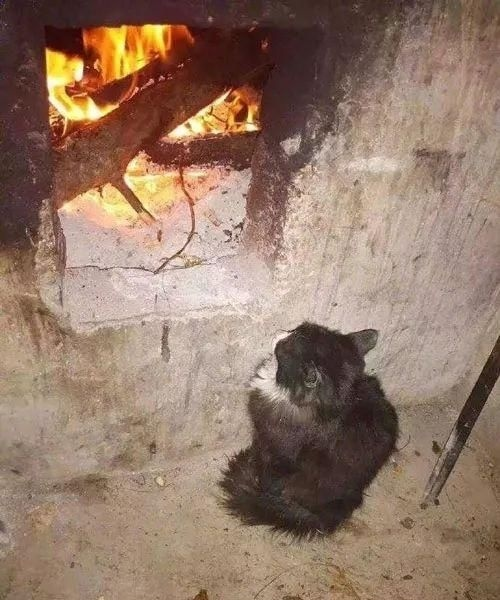fire: (42, 22, 187, 124), (54, 150, 215, 228), (164, 87, 263, 143)
